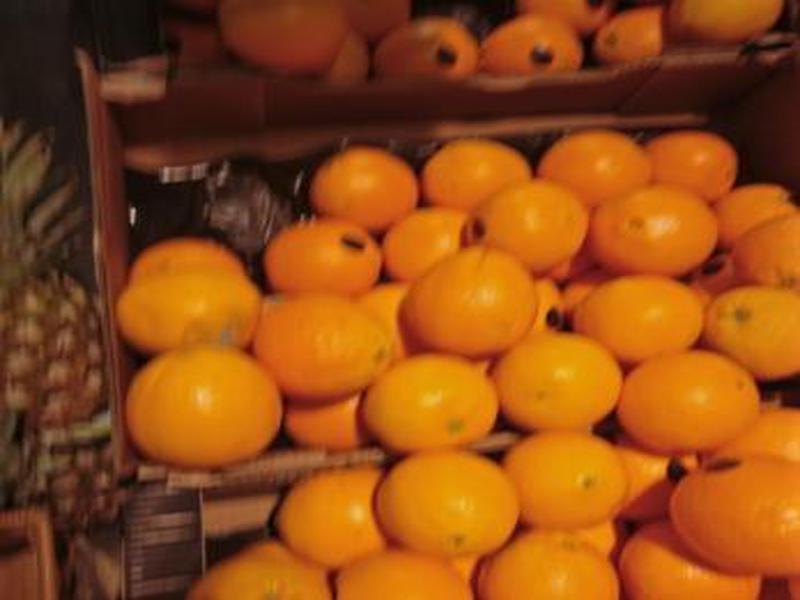orange: (113, 343, 299, 469), (244, 283, 413, 394), (400, 240, 557, 355), (380, 449, 529, 559), (360, 338, 507, 444), (672, 463, 800, 581), (619, 343, 759, 450), (466, 177, 605, 280), (273, 474, 416, 572), (494, 433, 633, 532), (587, 178, 713, 282), (112, 270, 273, 350), (570, 275, 713, 365), (407, 124, 536, 222), (496, 329, 610, 436), (262, 215, 394, 300), (693, 272, 800, 373), (539, 121, 650, 215), (624, 123, 745, 209), (308, 145, 425, 230), (379, 215, 494, 287), (375, 15, 483, 91), (479, 16, 586, 86), (729, 219, 800, 295), (589, 8, 666, 70)
